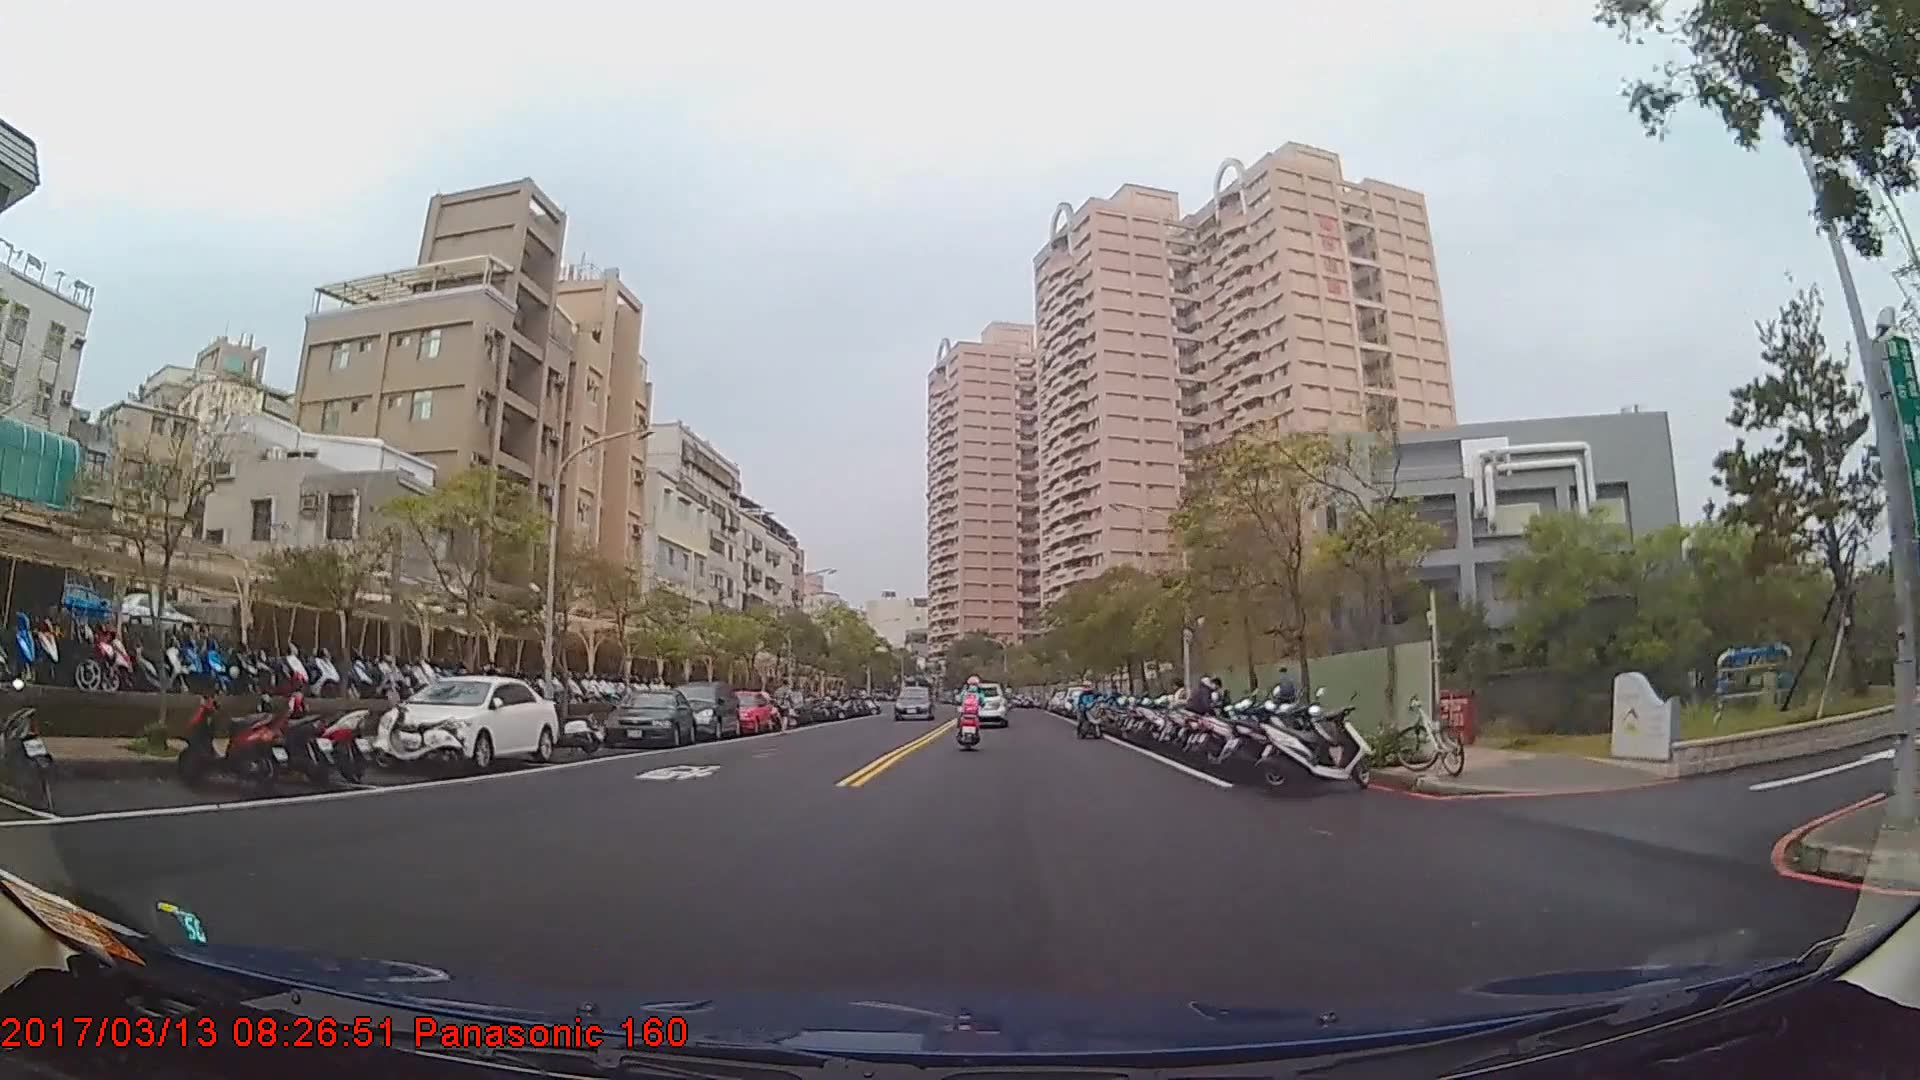pedestrian: (1186, 678, 1223, 757), (1270, 664, 1298, 732), (772, 679, 802, 740), (1168, 677, 1193, 745)
rider: (957, 680, 987, 752), (1075, 685, 1101, 745)
vehicle: (377, 674, 555, 772), (603, 686, 696, 747), (670, 679, 740, 738), (716, 688, 774, 734), (955, 682, 1008, 731), (894, 685, 933, 721)
